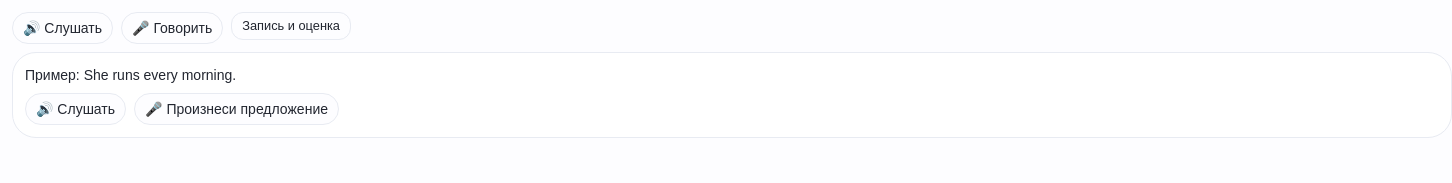
Test: PronounceControls › confirms the match when the spoken sentence is grammatically fine
Click the button "🎤 Говорить" at (172, 28), box [121,12,223,44]
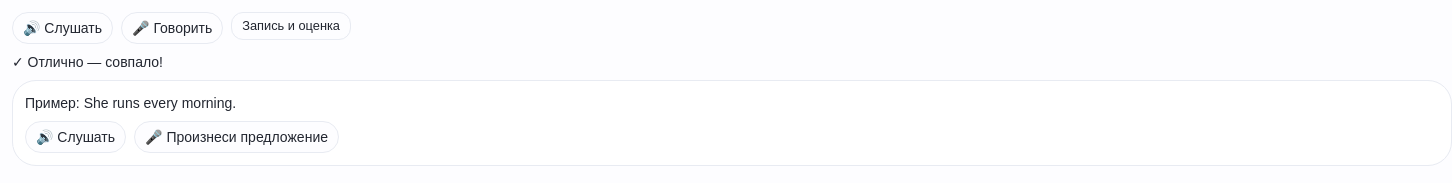
Expected: the text "✓ Отлично — совпало!" is shown, [12,54,163,70]
